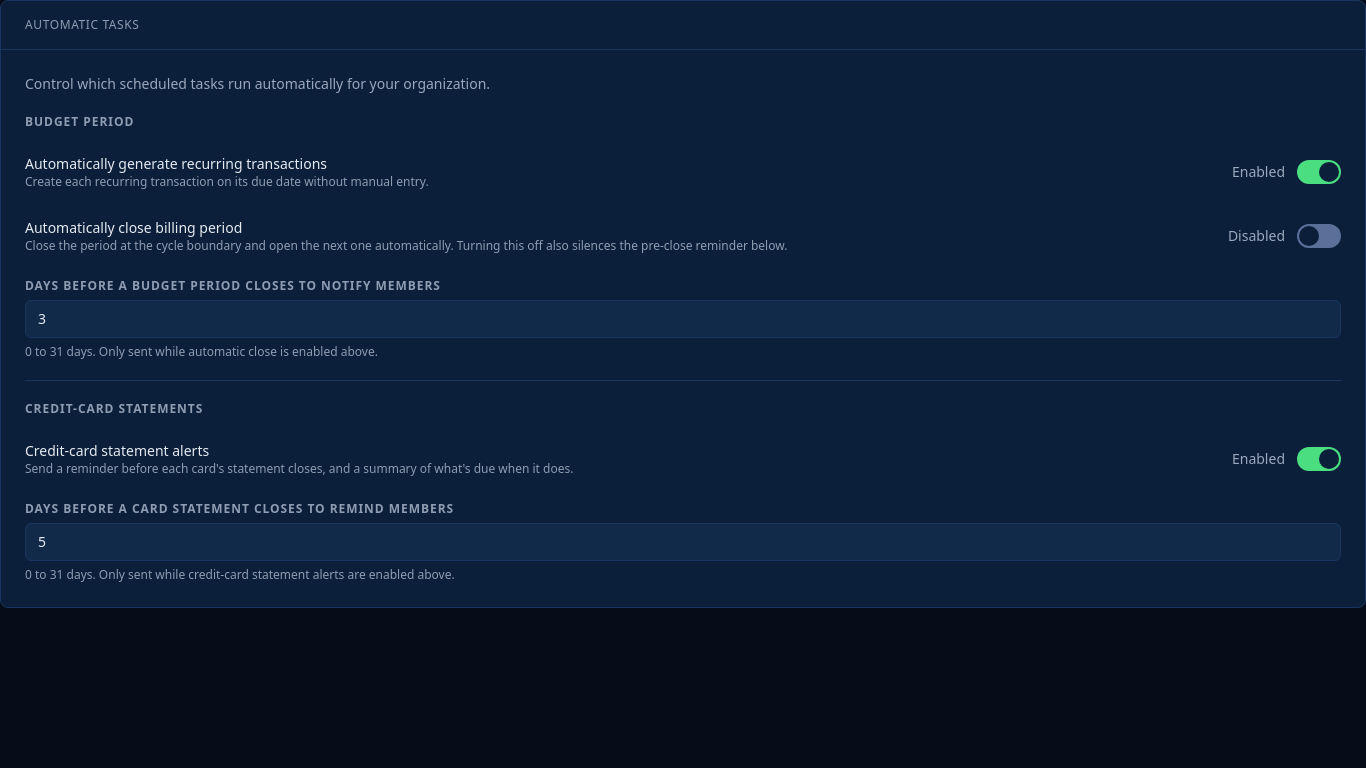
Test: SchedulerSettingsCard › X2 fence: a failed save rolls back ONLY its own field, not a sibling that saved meanwhile
The image size is (1366, 768).
Click the switch named "Automatically close billing period": (1319, 236) [1297,214,1341,258]
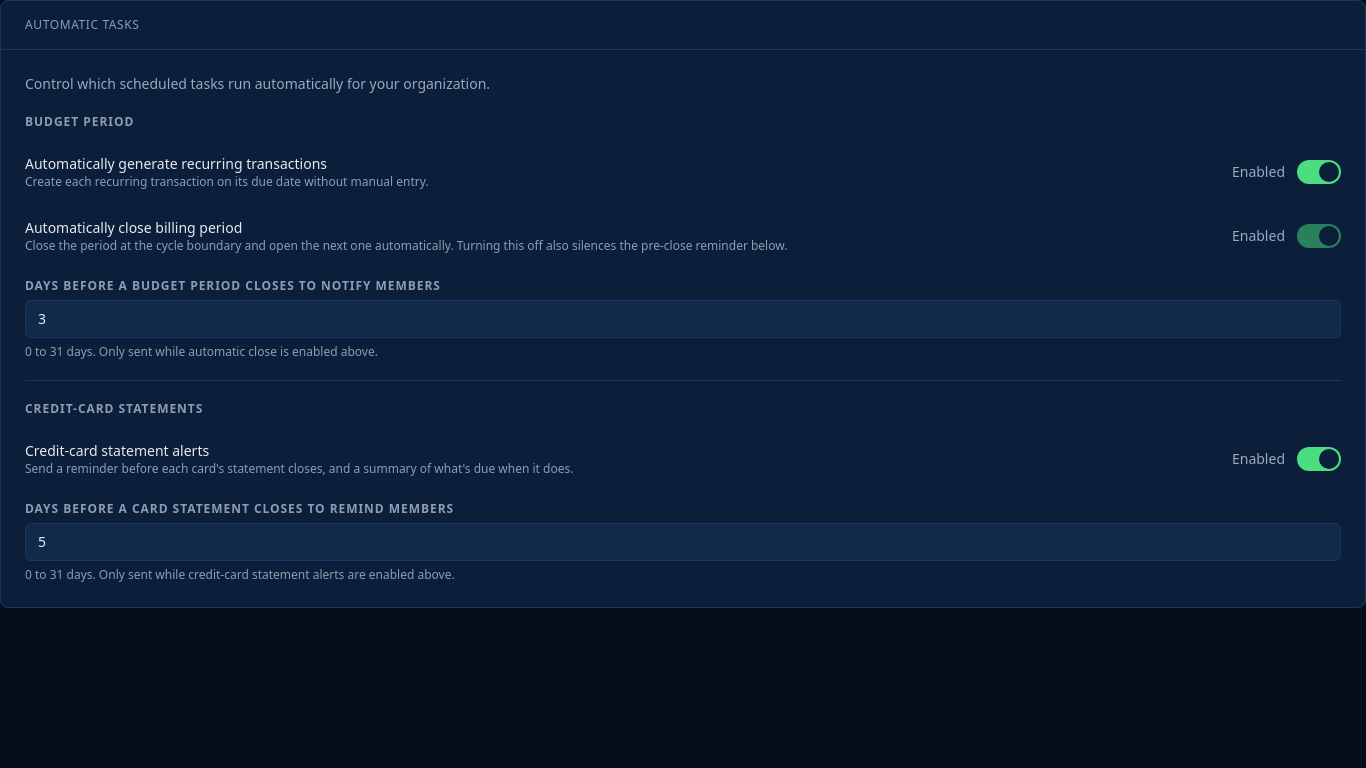
Click the switch named "Automatically generate recurring transactions": (1319, 172) [1297,150,1341,194]
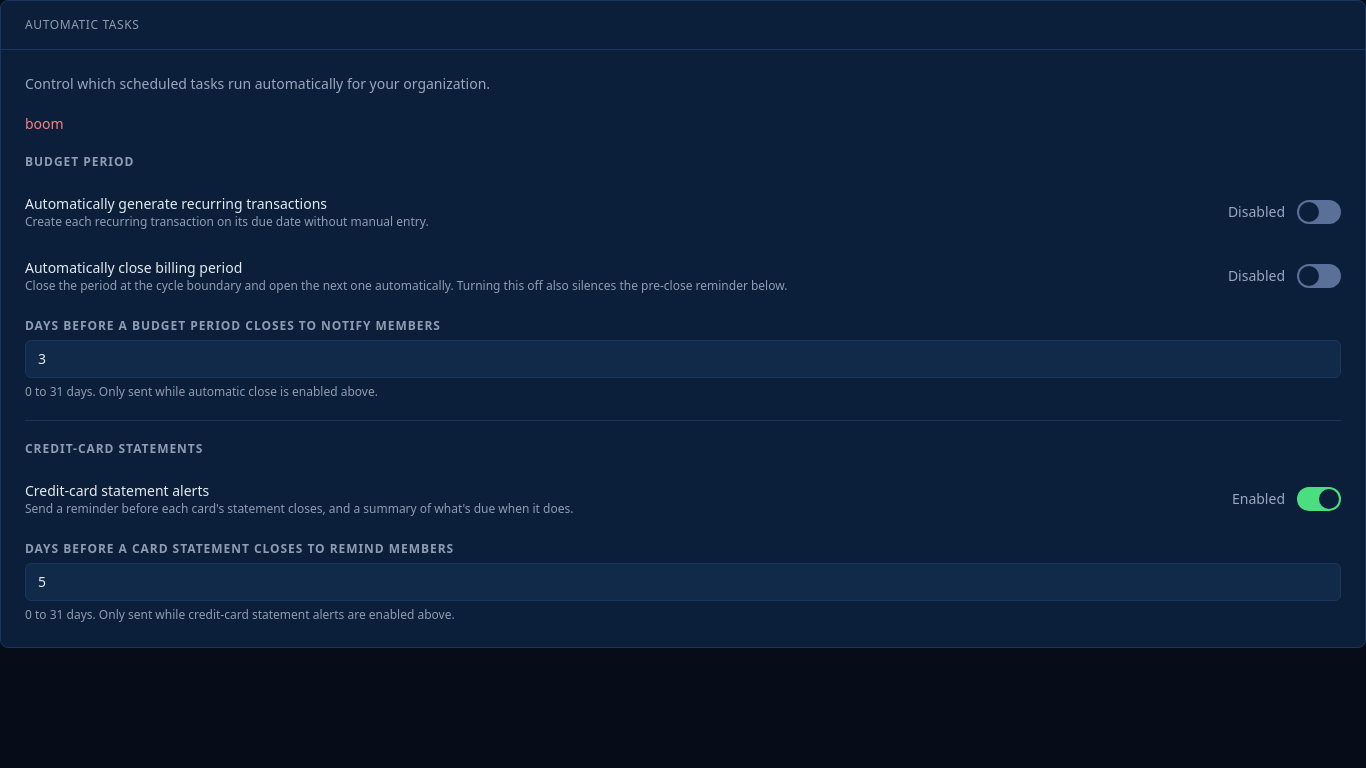
expect the message "boom" is shown: met, box [25,114,64,133]
